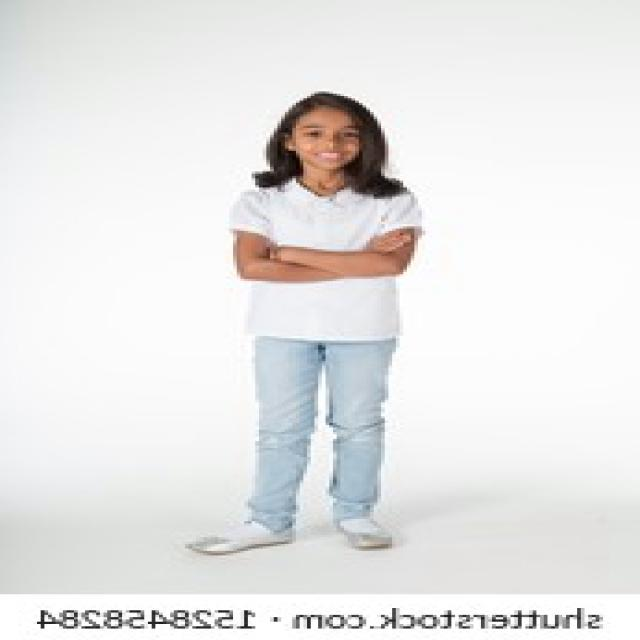child: (166, 91, 436, 560)
